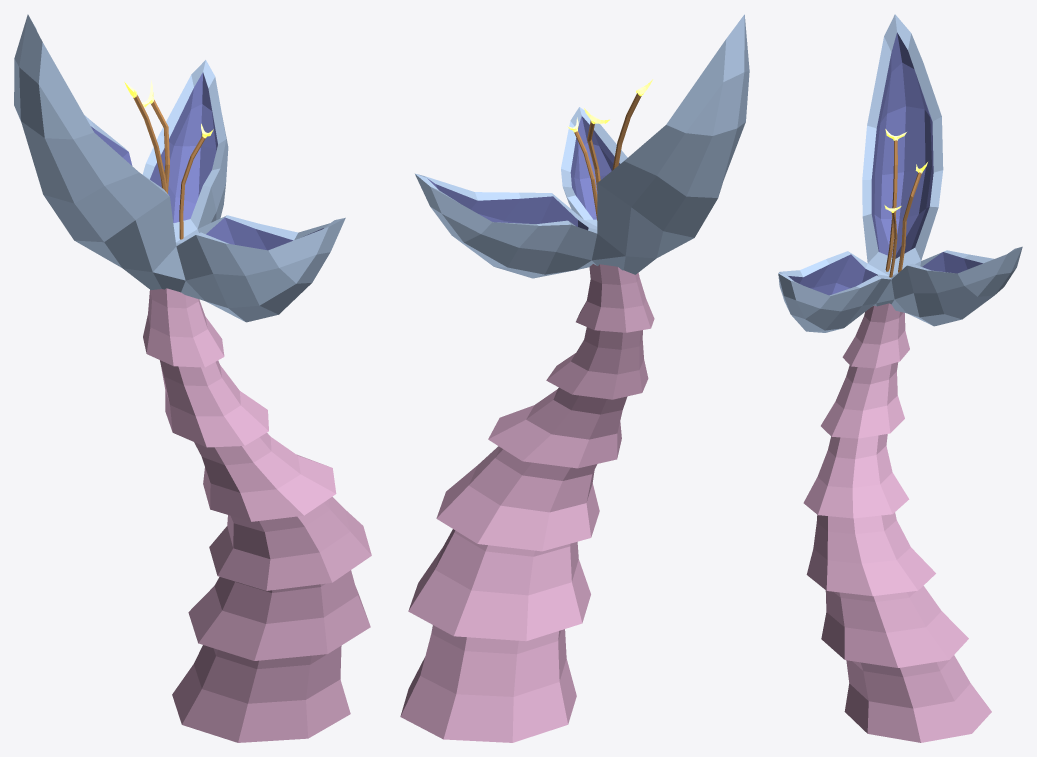
File: Tree_10_Var_03.fbx
The picture shows the model from 3 angles, left to right: view 1: azimuth 30°, elevation 25°; view 2: azimuth 150°, elevation 25°; view 3: azimuth 270°, elevation 25°; orthographic projection. The views are drawn at different scales.
Parts seen in each view (by area): view 1: Tree_10_Var_03; view 2: Tree_10_Var_03; view 3: Tree_10_Var_03.
Part boxes in pixels (x1,y1,x2,y2): Tree_10_Var_03: [14, 14, 371, 742]; Tree_10_Var_03: [400, 14, 749, 742]; Tree_10_Var_03: [778, 14, 1022, 742].
Bounding box in the file's own units: 1.33 × 3.61 × 1.67.
